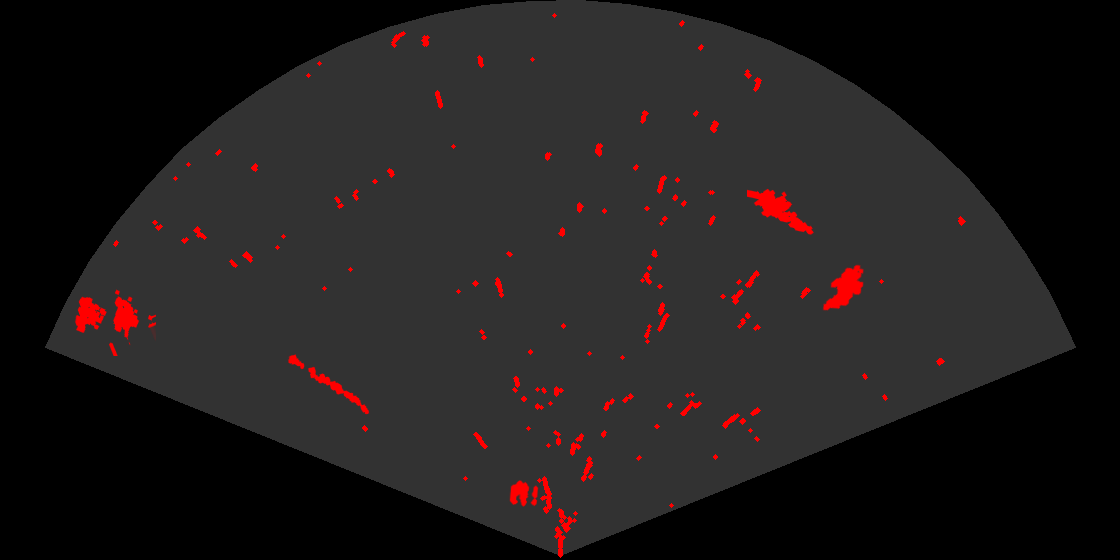AUV: (821, 263, 865, 312)
ball: (508, 479, 540, 508)
cage: (73, 288, 156, 356)
chain: (286, 353, 371, 416)
frogman: (747, 187, 815, 236)
